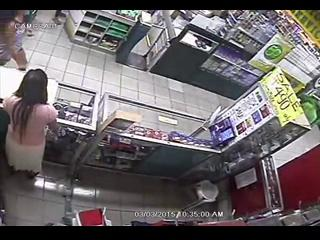Normal: (1, 68, 59, 178)
